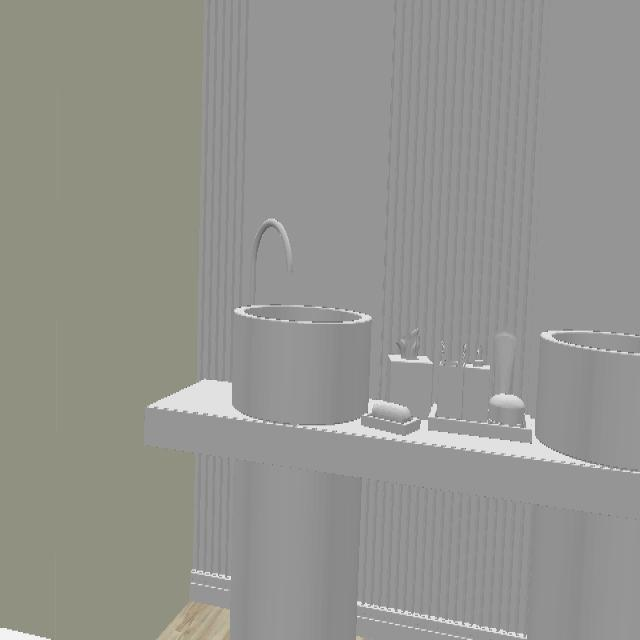washbasin: (229, 301, 374, 428), (536, 329, 640, 471)
